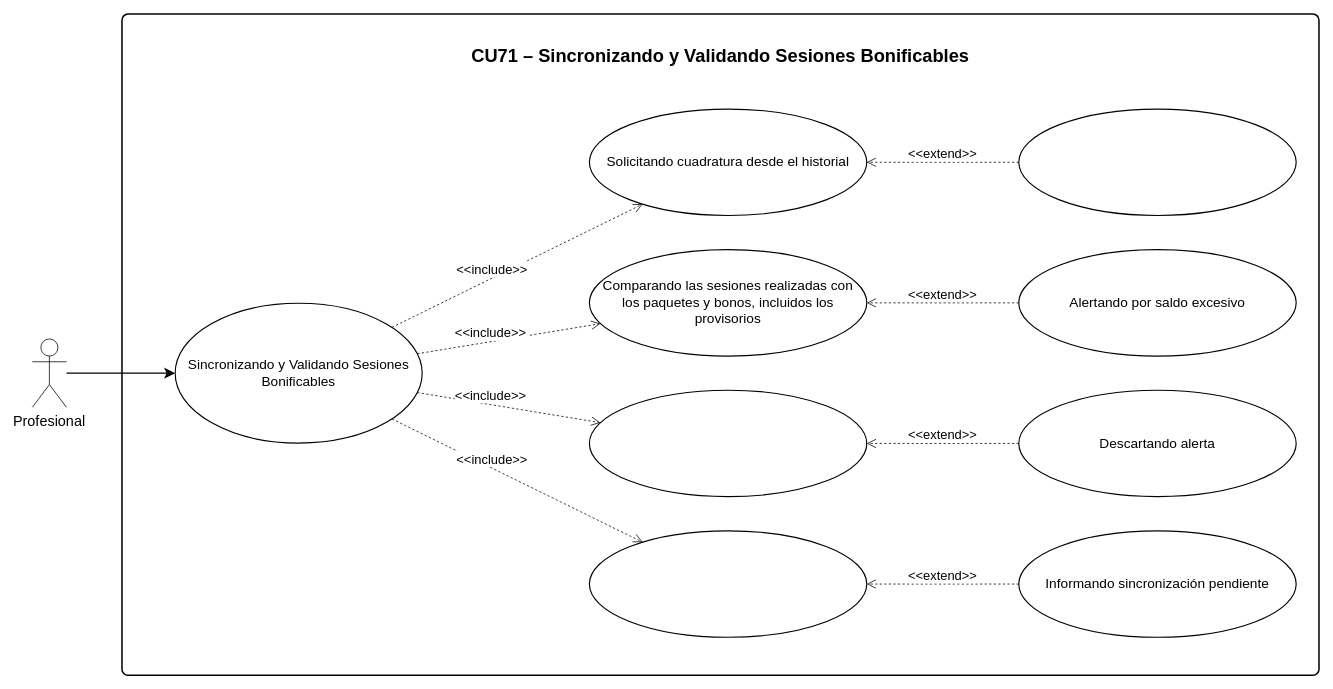
Some shapes in this 1333 by 689 pixel diagram are drawn without their labels. The centre of each missing label's shape, as x and y in pixels:
Listando sesiones sin bono y ofreciendo el ingreso por contingencia: (1157,162)
Manteniendo cuadratura para la siguiente consulta: (727,583)
Revisando resumen y alertas: (727,443)
